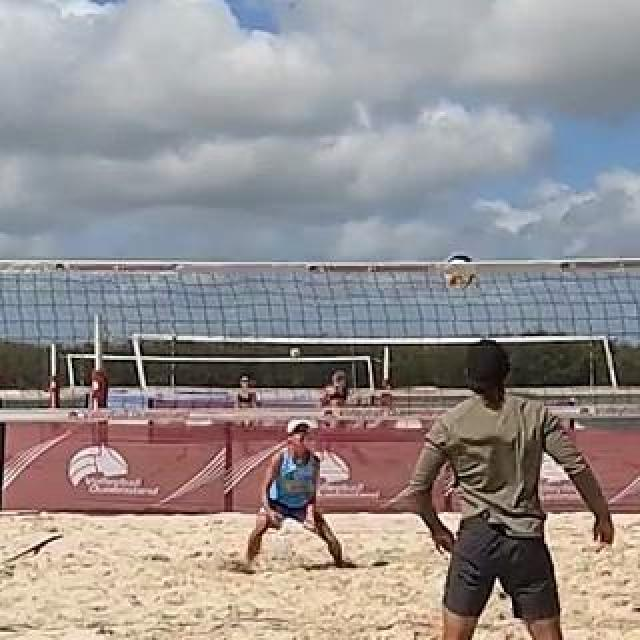volleyball: (442, 253, 478, 291), (289, 348, 299, 358)
